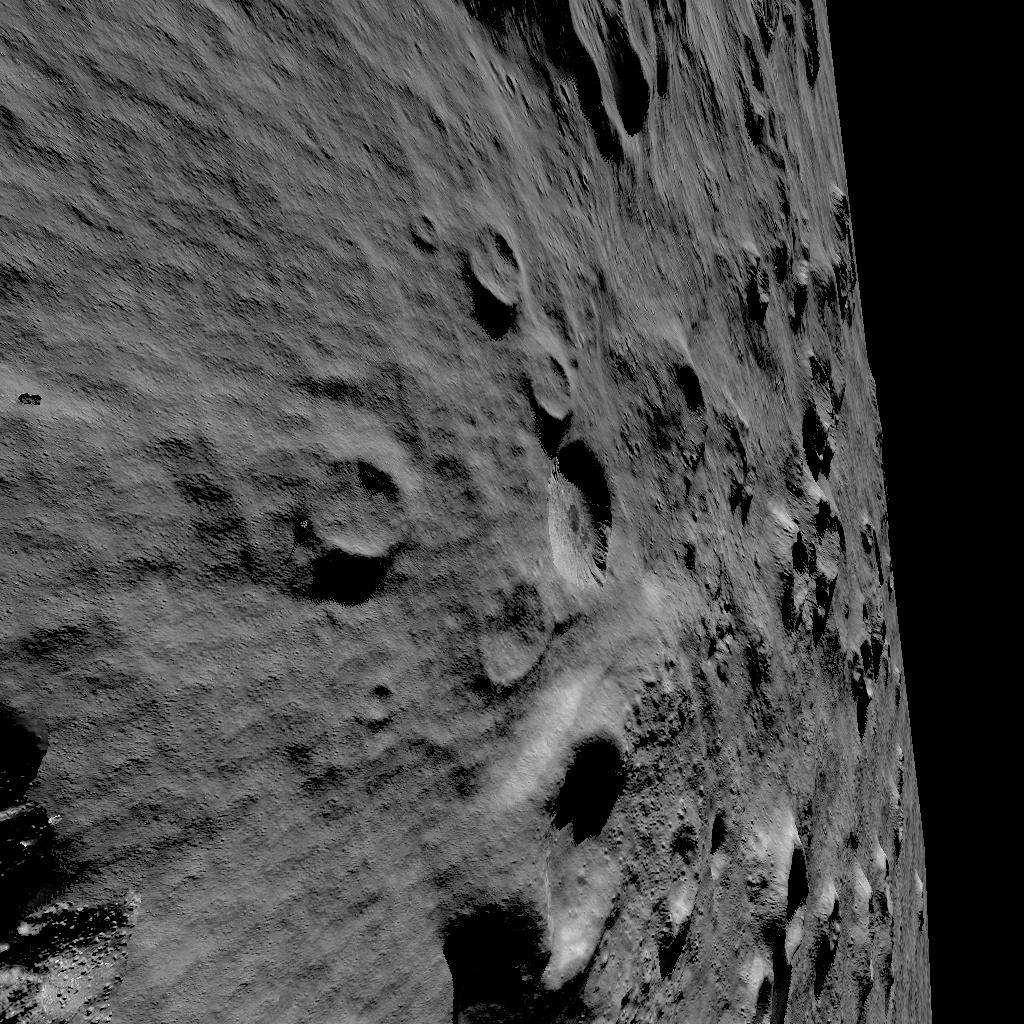Boulders: (0, 665, 156, 1024)
Crater: (444, 678, 646, 1024), (468, 215, 623, 600), (661, 795, 915, 1024), (778, 358, 902, 716), (456, 0, 698, 165), (741, 185, 870, 340), (734, 0, 832, 168), (666, 350, 758, 523), (308, 448, 418, 572)
Plan surface: (98, 0, 440, 433), (176, 665, 428, 1024), (0, 448, 186, 650)
